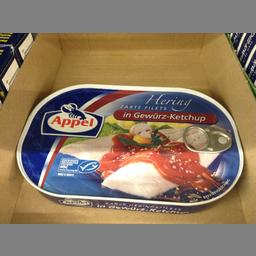fish: (15, 82, 242, 212)
